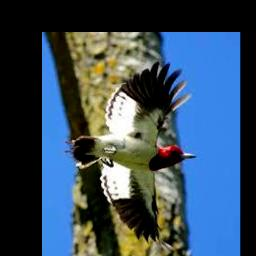Woodpecker: (66, 62, 196, 249)
